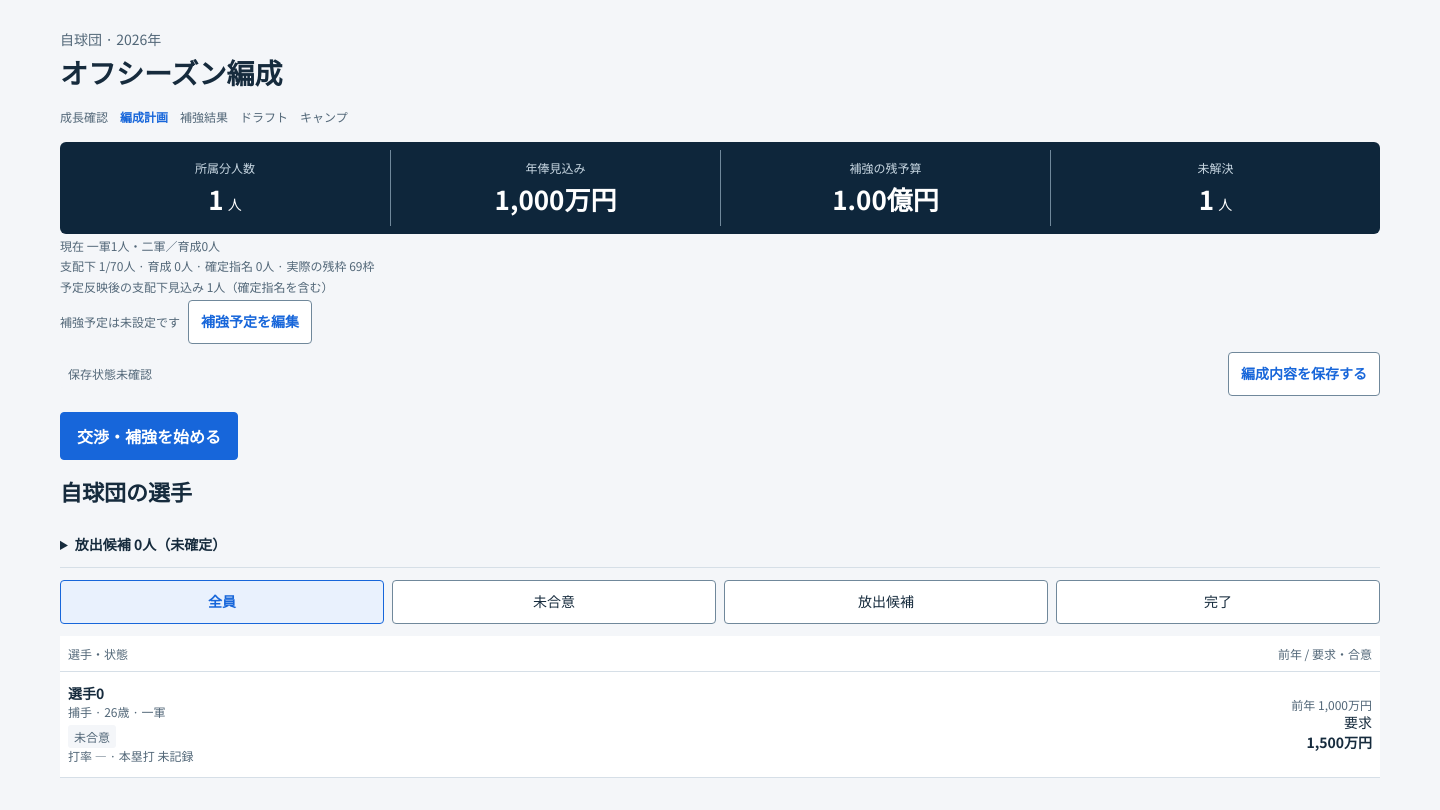
keeps a returned failure visible until a successful retry even when no shared result was published
Click the button "編成内容を保存する": (1304, 374) [1228,352,1380,396]
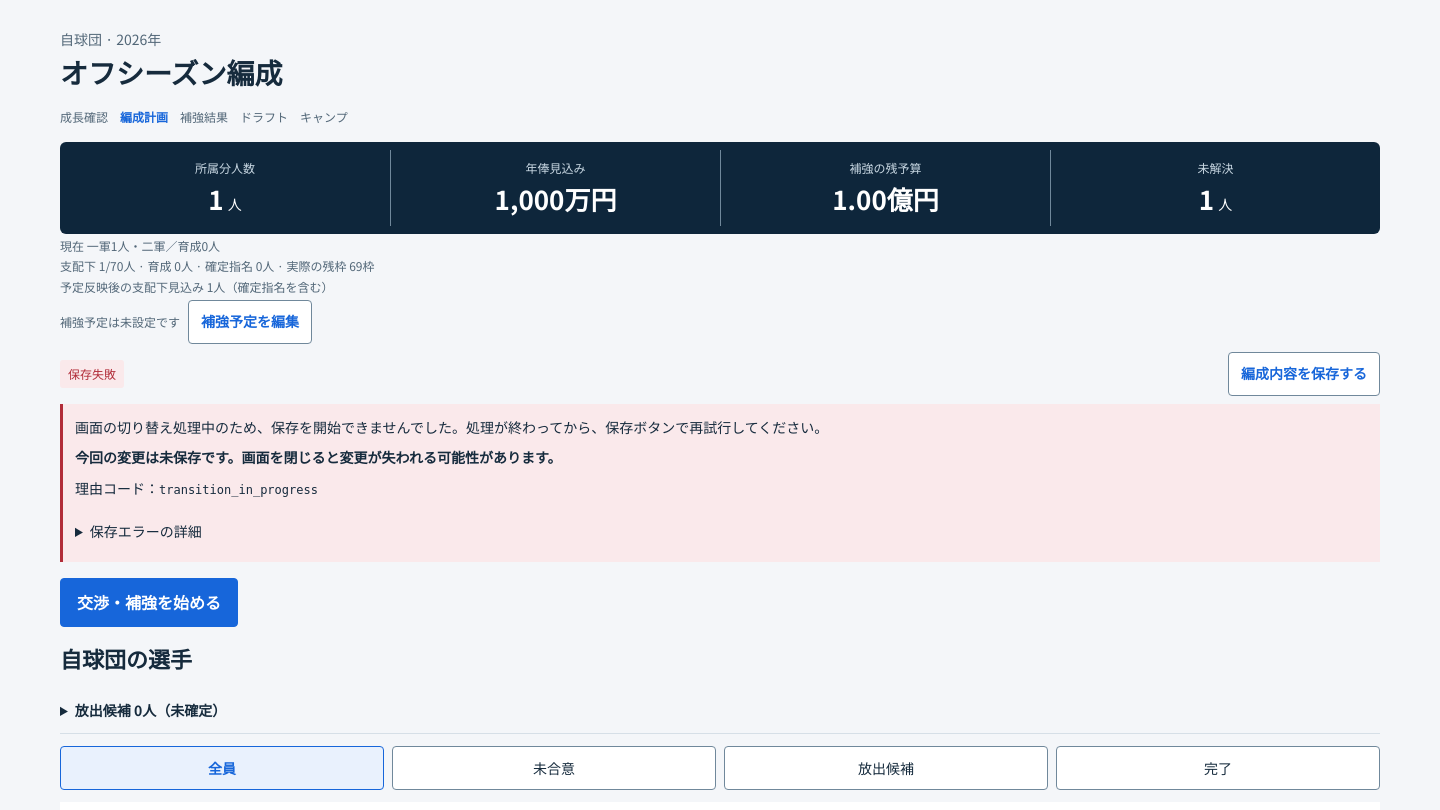
Expected: the element that starts with "保存失敗" is shown, [68,365,116,382]
Expected: the message shows "画面の切り替え", [75,417,466,437]
Click the button "編成内容を保存する": (1304, 374) [1228,352,1380,396]
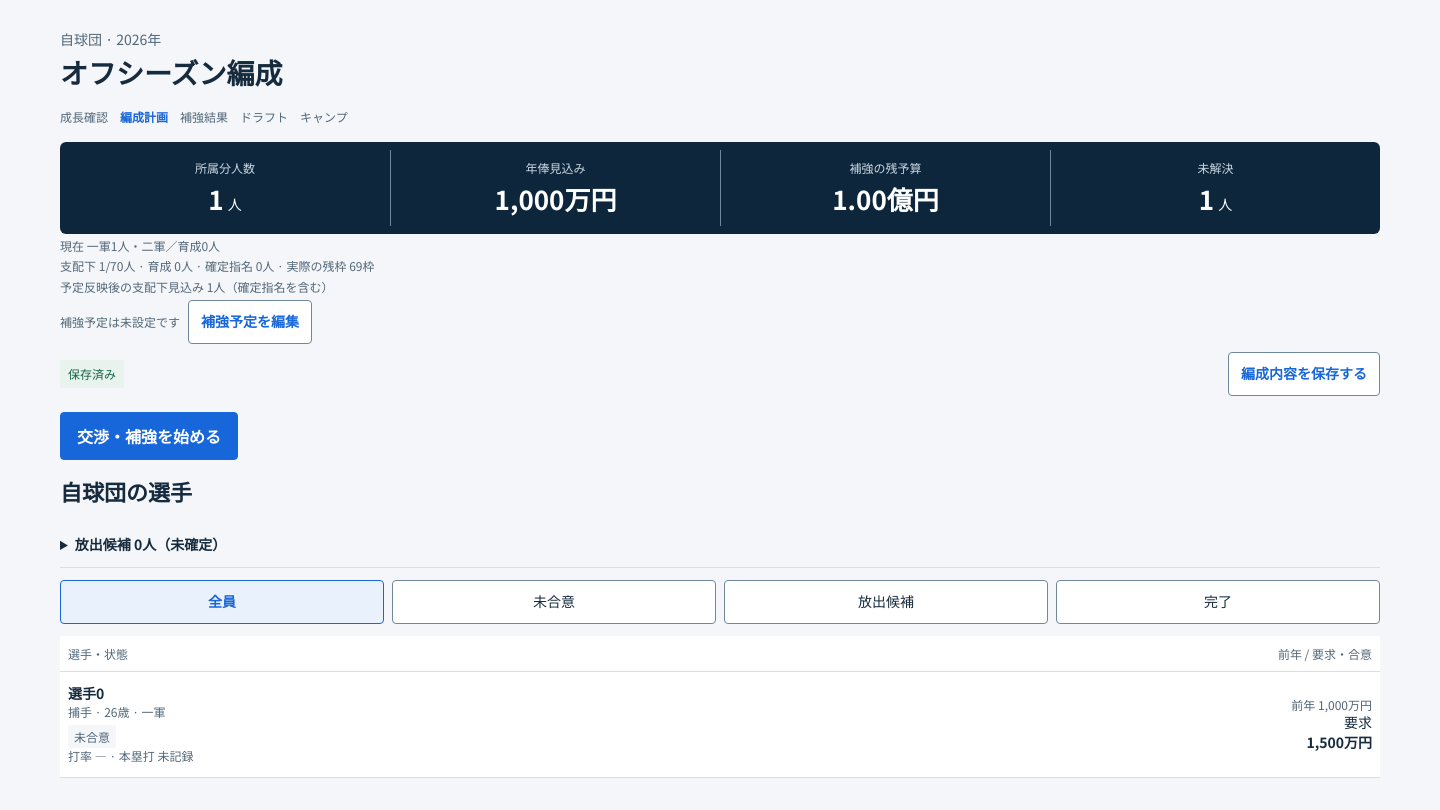
Expected: no messages are shown
Expected: the element showing "保存済み 編成内容を保存する" is shown, [60,352,1380,396]
